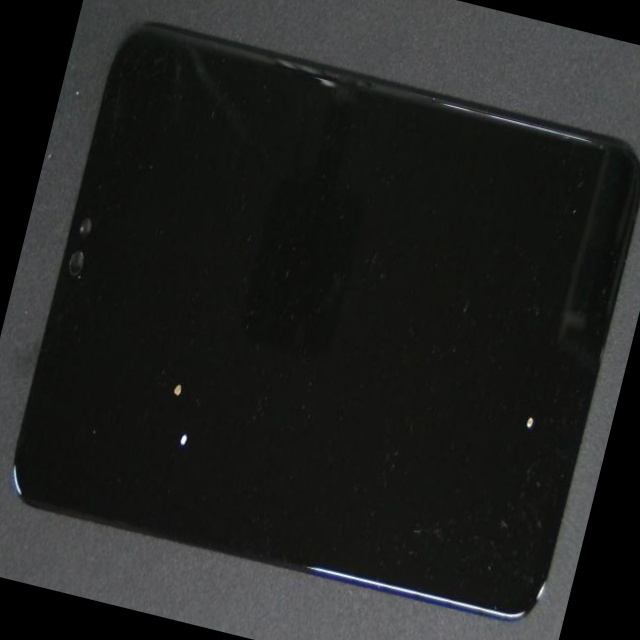stain: (243, 188, 640, 616), (24, 162, 327, 632), (55, 105, 322, 568)
